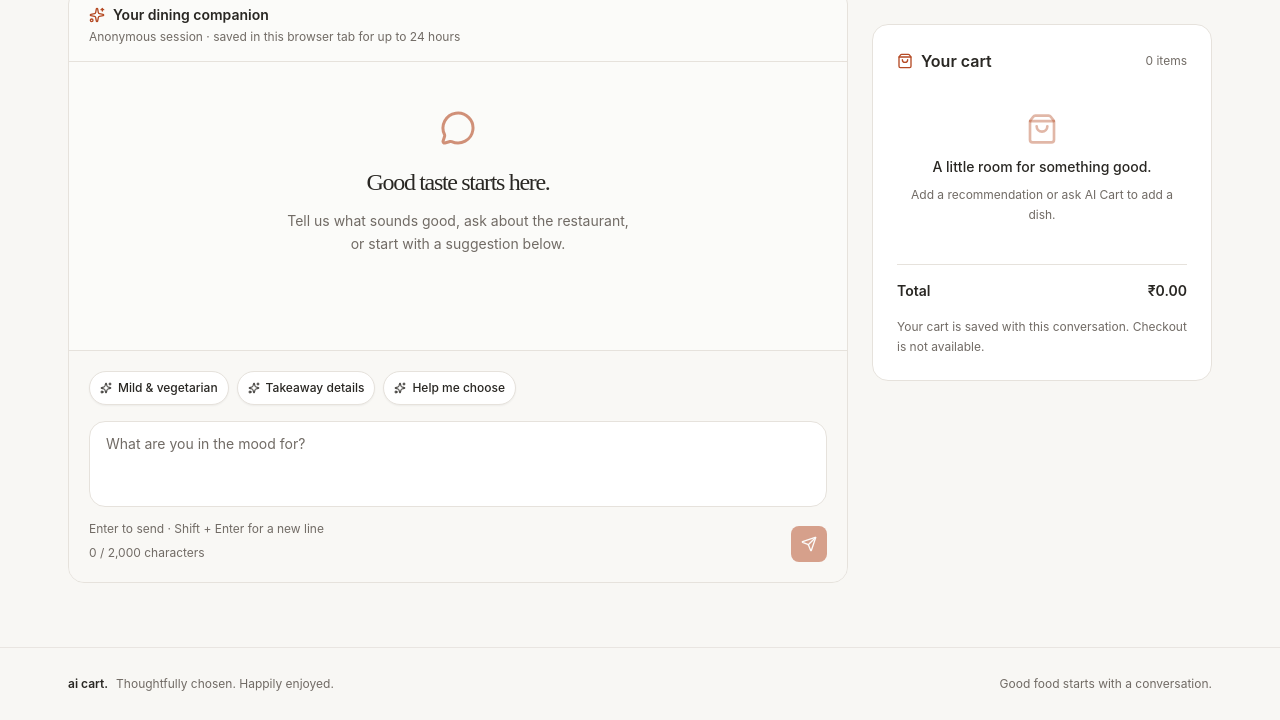
Test: live chat and manual cart UI › retains the exact request ID/text on retry and does not duplicate the optimistic message
The width and height of the screenshot is (1280, 720).
(page scrolled)
In the text box: (458, 464) [89,421,827,507], type "Suggest something mild."
Then press Enter
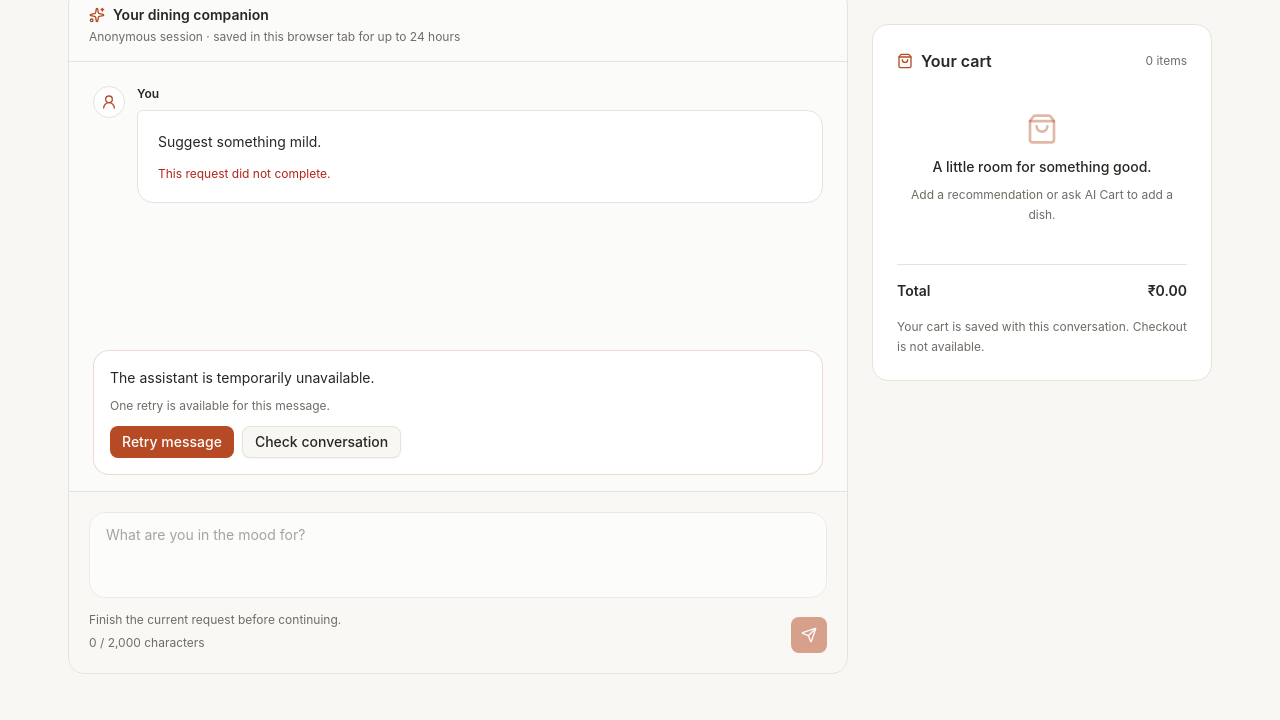
Now the message shows "The assistant is temporarily unavailable.", box [110,369,375,386]
Now the text box is disabled, box [89,512,827,598]
Click the button "Retry message": (172, 442) [110,426,234,458]
(page scrolled)
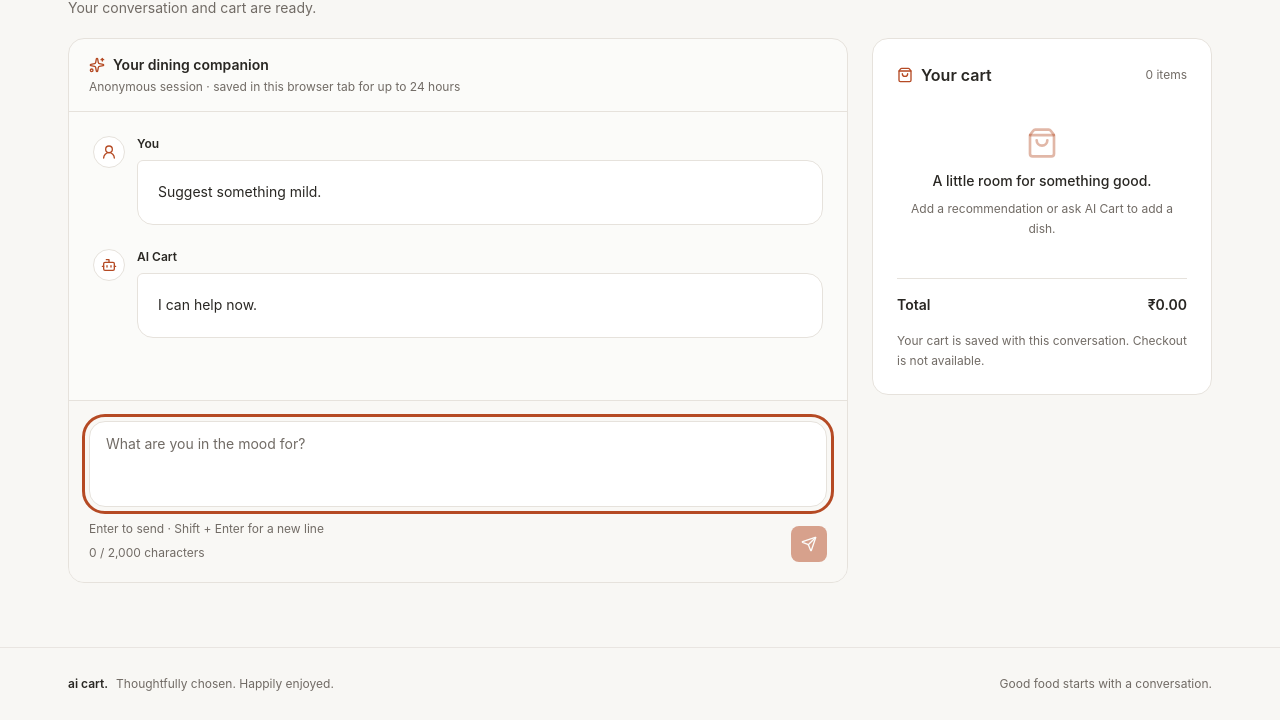
Now the text "I can help now." is shown, box [158,296,257,313]
Now the text "Suggest something mild." is shown once, box [158,183,321,200]
